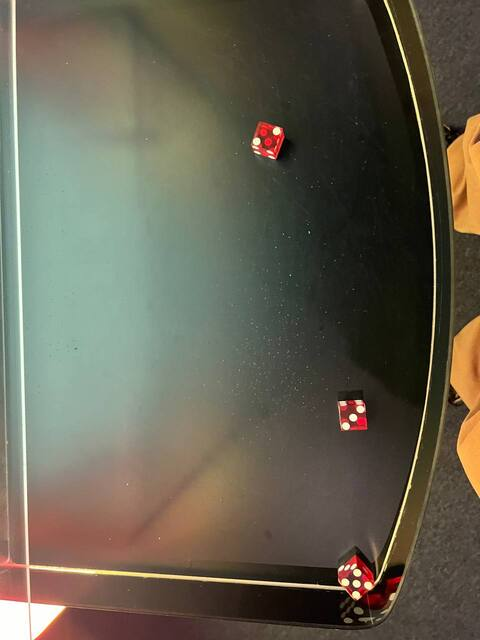five: (336, 567, 377, 602)
three: (333, 401, 373, 436)
two: (248, 117, 287, 154)
